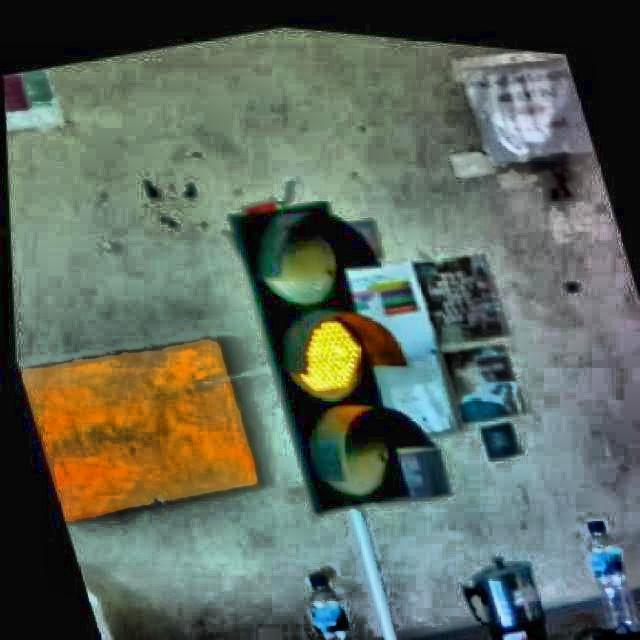yellow: (229, 199, 419, 515)
